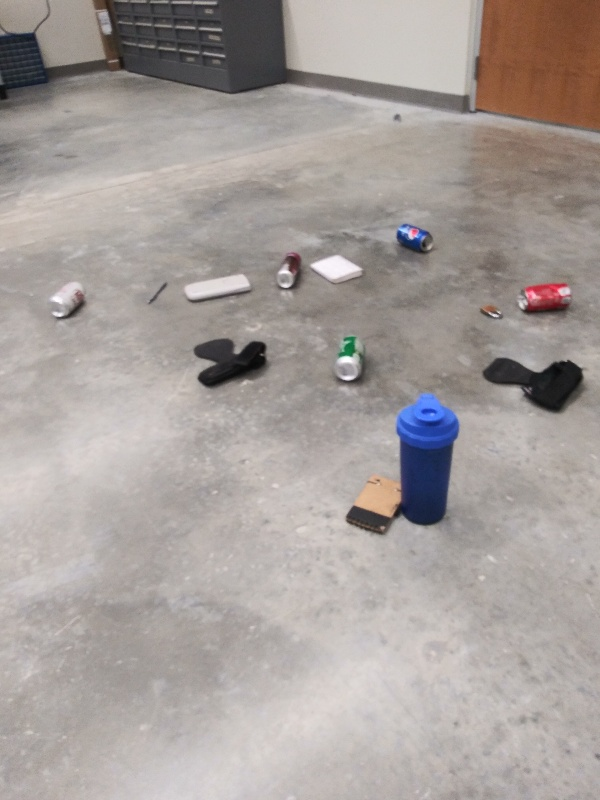can: (512, 277, 577, 315), (45, 276, 91, 323), (330, 332, 370, 385), (391, 218, 438, 257), (272, 249, 307, 295)
